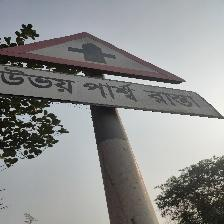Crossroad: (0, 11, 224, 122)
